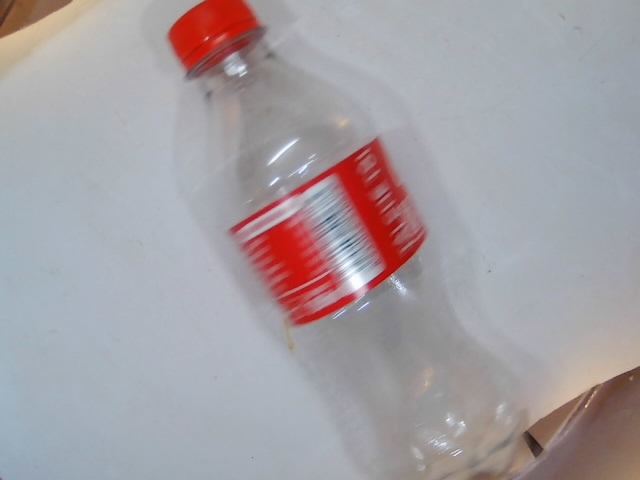plastic: (164, 1, 537, 480)
